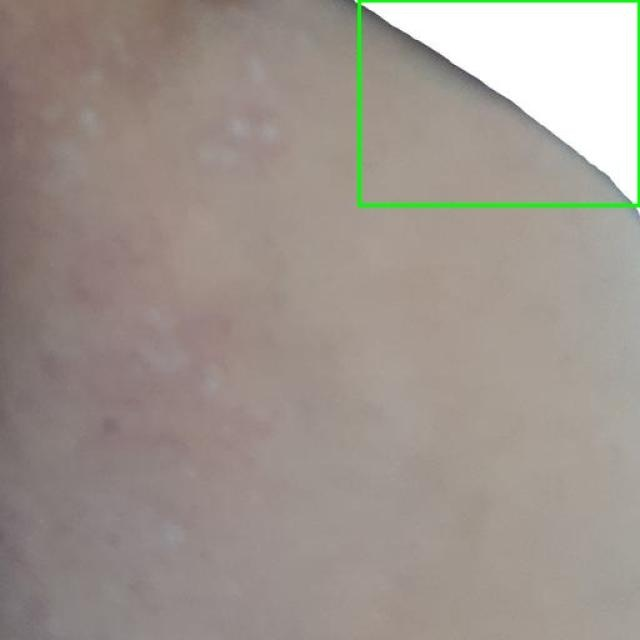Tinea Corporis: (359, 0, 639, 206)
